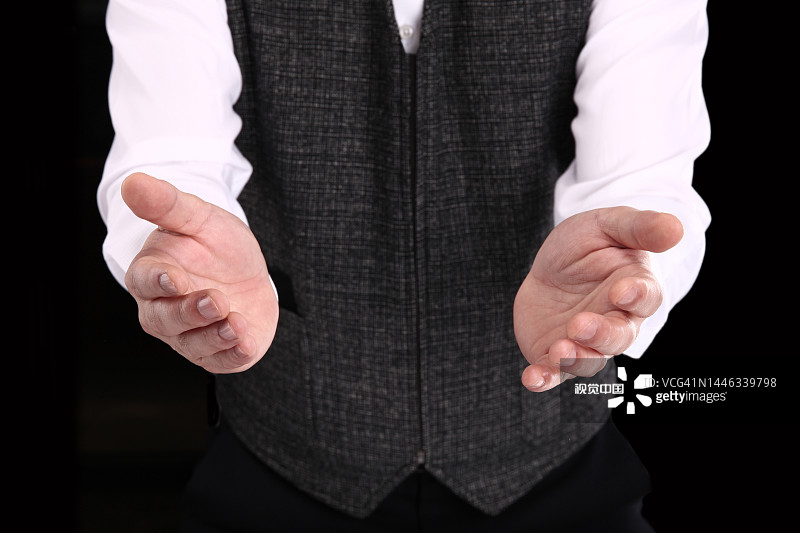no-phone: (104, 160, 300, 393), (485, 192, 695, 399)
